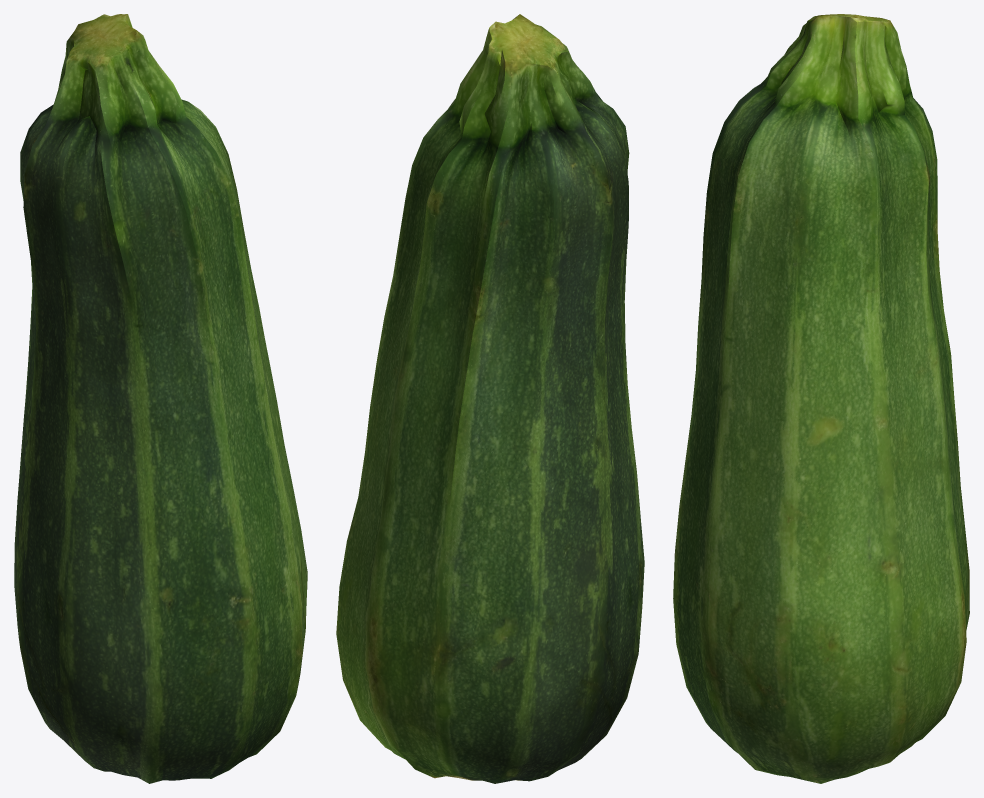
File: zuchini_free.glb
3 renders of one model, left to right at view 1: azimuth 30°, elevation 25°; view 2: azimuth 150°, elevation 25°; view 3: azimuth 270°, elevation 25°, orthographic. The views are drawn at different scales.
Visible parts, largest first — view 1: Object_2; view 2: Object_2; view 3: Object_2.
Boxes of the visible parts, left/top/right/bottom form: Object_2: left=14, top=14, right=307, bottom=783; Object_2: left=336, top=14, right=644, bottom=783; Object_2: left=673, top=14, right=969, bottom=783.
Bounding box in the file's own units: 8.35 × 23.21 × 8.52.
1 material, 1 textured.
